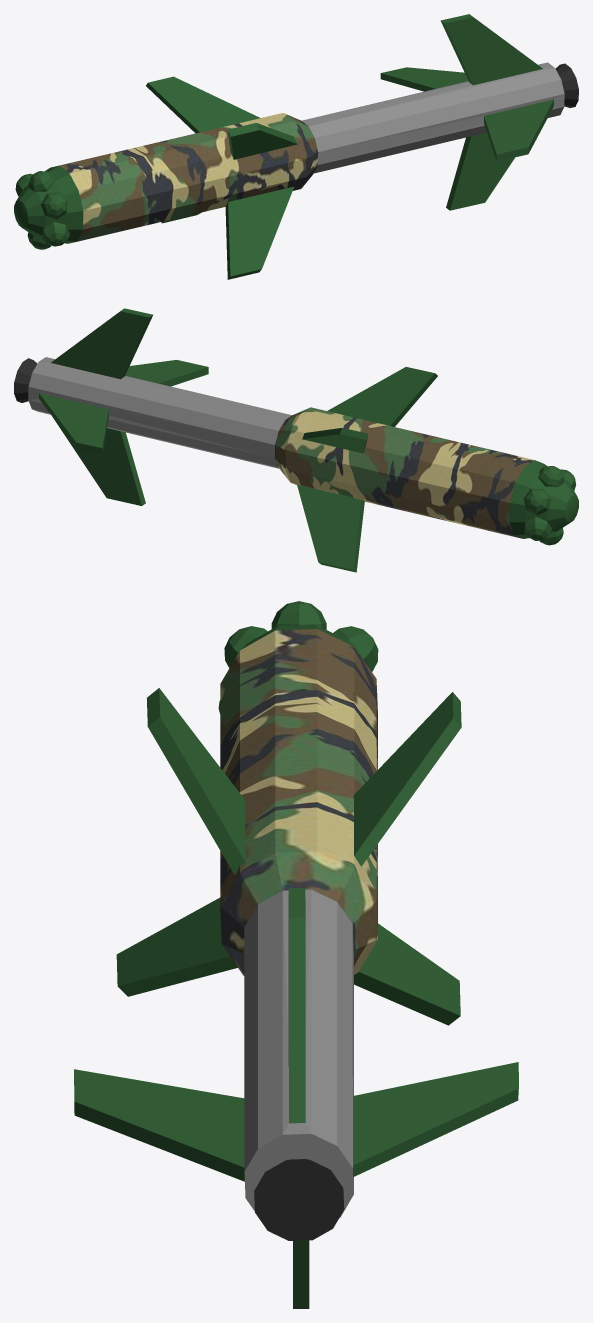
The model's file is SpreadMissile.fbx.
The picture shows the model from 3 angles, top to bottom: view 1: azimuth 30°, elevation 25°; view 2: azimuth 150°, elevation 25°; view 3: azimuth 270°, elevation 25°; orthographic projection. The views are drawn at different scales.
Parts seen in each view (by area): view 1: pSphere7; view 2: pSphere7; view 3: pSphere7.
Boxes of the visible parts, <box> form: pSphere7: <box>14,14,578,279</box>; pSphere7: <box>14,308,578,572</box>; pSphere7: <box>74,601,518,1308</box>.
Bounding box in the file's own units: 10.35 × 3.42 × 3.62.
1 material, 1 textured.
